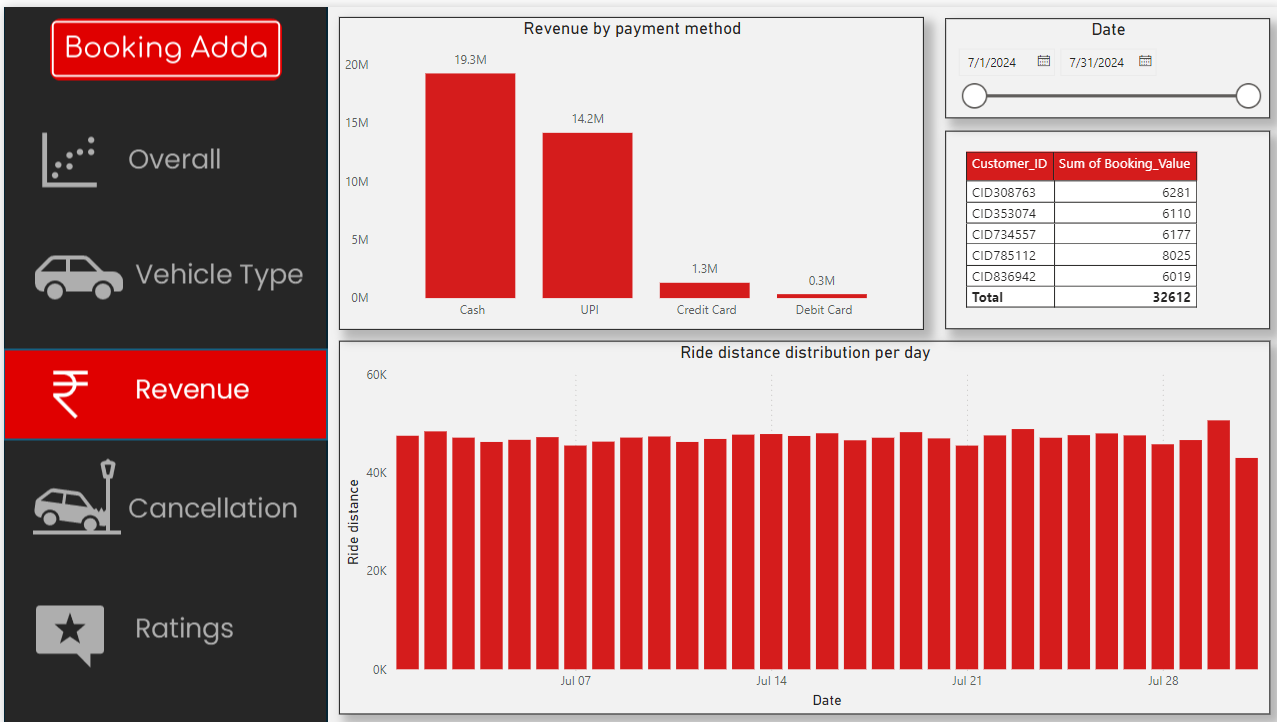

The page's visual inventory and layout, read from the dashboard file:
{"tool":"powerbi","page":{"name":"Revenue","canvas":[1280,720],"ordinal":2},"visuals":[{"type":"actionButton","box":[0,223.2,322.1,90.5],"z":0},{"type":"actionButton","box":[1.2,450,322.1,90.5],"z":1000},{"type":"actionButton","box":[2.4,576.7,322.1,90.5],"z":2000},{"type":"actionButton","box":[1.2,111,322.1,90.5],"z":3000},{"type":"columnChart","title":"Ride distance distribution per day","fields":{"Y":["Sum(Table1.Ride_Distance)"],"Category":["Table1.Date"]},"box":[335,333.8,931.2,373.8],"z":4000},{"type":"columnChart","title":"Revenue by payment method","fields":{"Category":["Table1.Payment_Method"],"Y":["Sum(Table1.Booking_Value)"]},"box":[335,10,585,312.5],"z":5000},{"type":"slicer","title":"Date","fields":{"Values":["Table1.Date"]},"box":[941.2,11.2,325,100],"z":6000},{"type":"pivotTable","fields":{"Rows":["Table1.Customer_ID"],"Values":["Sum(Table1.Booking_Value)"]},"box":[941.2,123.8,325,198.8],"z":7000}]}

Visuals, with their boxes in screenshot pixels (x1, y1, x2, y2), scaled from the page's 1280x720 canvas onto the 1277x722 screenshot:
actionButton: [0,224,321,315]
actionButton: [1,451,323,542]
actionButton: [2,578,324,669]
actionButton: [1,111,323,202]
"Ride distance distribution per day" columnChart: [334,335,1263,710]
"Revenue by payment method" columnChart: [334,10,918,323]
"Date" slicer: [939,11,1263,112]
pivotTable - Table1.Customer_ID x Sum(Table1.Booking_Value): [939,124,1263,323]
